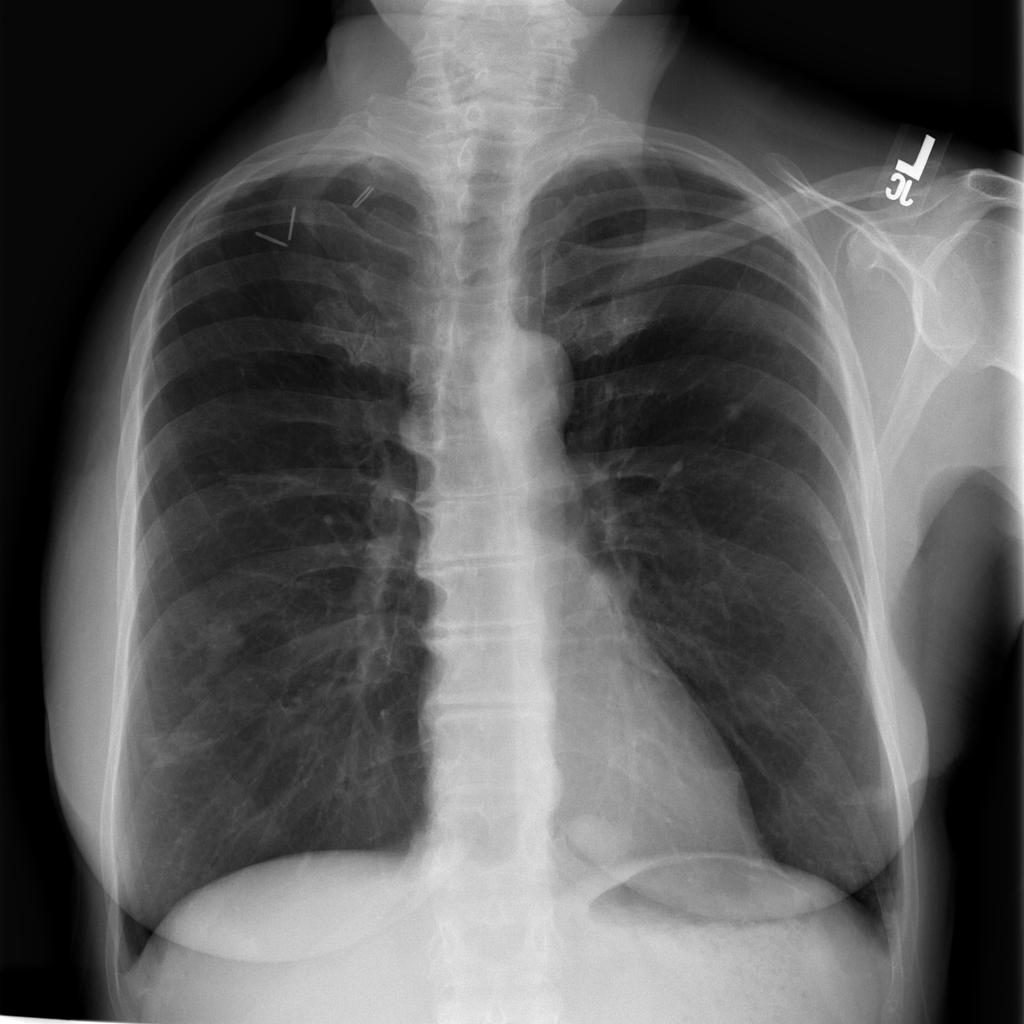nodule: (177, 598, 257, 675), (557, 797, 638, 872), (857, 771, 906, 824)
